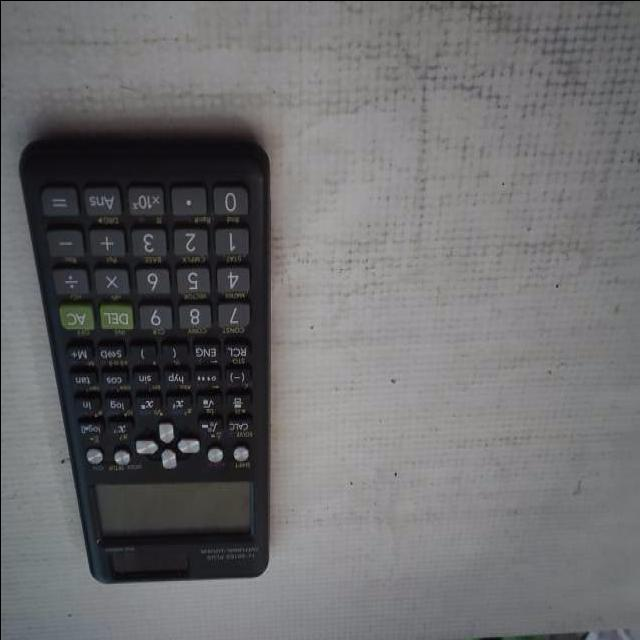Calculator: (17, 133, 273, 587)
